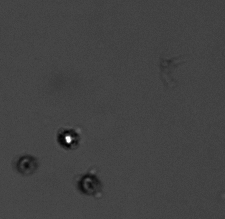Dead Cell: (78, 172, 101, 196), (16, 154, 38, 175)
Living Cell: (57, 128, 82, 150)
